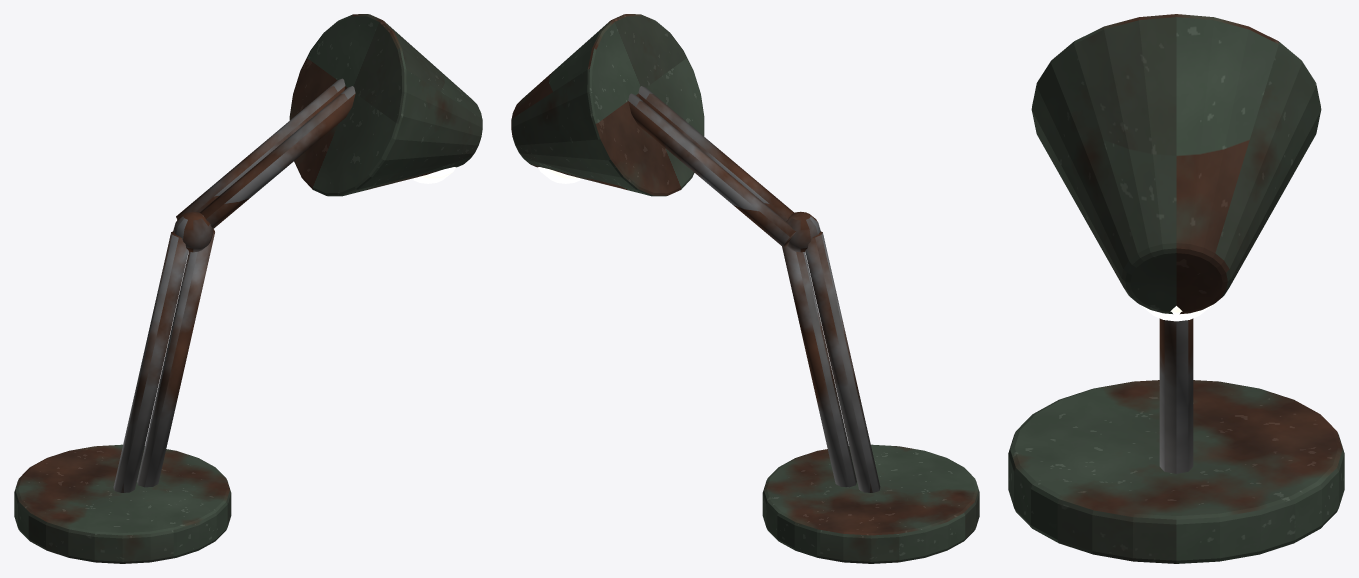
File: F21_desk_lamp.glb
3 renders of one model, left to right at view 1: azimuth 30°, elevation 25°; view 2: azimuth 150°, elevation 25°; view 3: azimuth 270°, elevation 25°, orthographic. The views are drawn at different scales.
Parts seen in each view (by area): view 1: F21_desk_lamp; view 2: F21_desk_lamp; view 3: F21_desk_lamp.
Boxes of the visible parts, bbox=[...] form: F21_desk_lamp: bbox=[14, 14, 482, 563]; F21_desk_lamp: bbox=[511, 14, 979, 563]; F21_desk_lamp: bbox=[1008, 14, 1344, 563].
Size of the model in its own units: 0.4 by 0.3745 by 0.1687.
3 materials, 3 textured.
